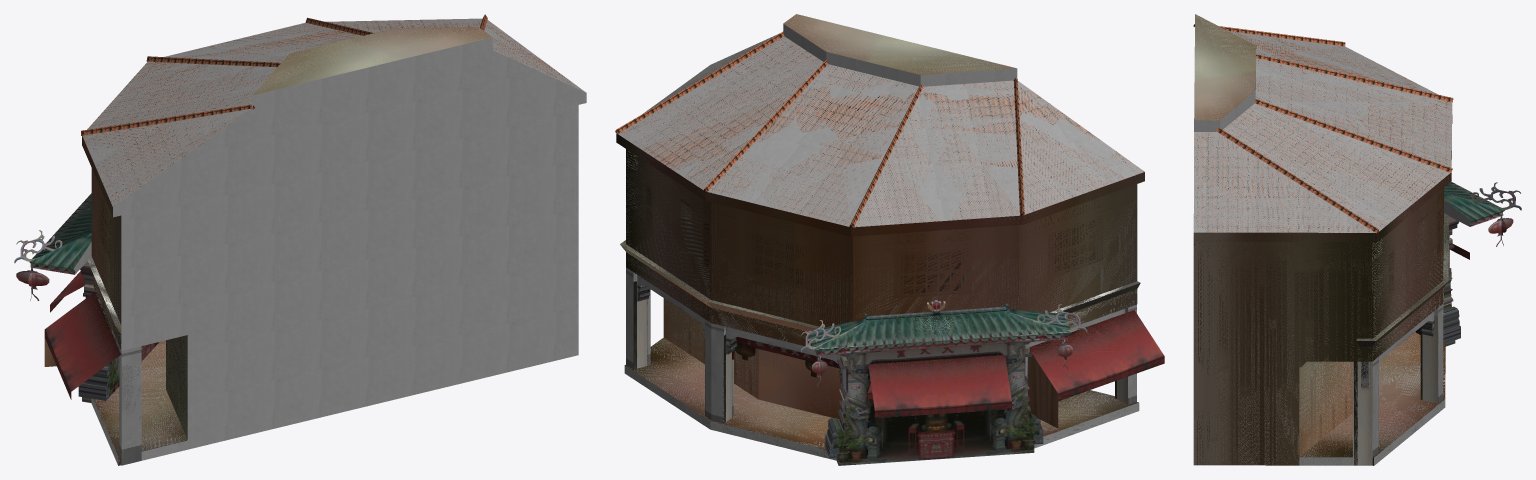
Rendered from smallstreethouse.fbx.
3 views of the same model, side by side, from view 1: azimuth 30°, elevation 25°; view 2: azimuth 150°, elevation 25°; view 3: azimuth 270°, elevation 25° (orthographic). The views are drawn at different scales.
Parts seen in each view (by area): view 1: Group2, Group_27_1, Group3, Group_21_1, box2, box1; view 2: Group2, Group3, Group_27_1, Group10, Group_20_2, Group_20_1, box3, Group_21_1, box, box1, box2; view 3: Group2, Group_20_2, Group3, box, box3, box1, box2, Group4.
Boxes of the visible parts, x1=… form: Group2: x1=82, y1=18, x2=586, y2=465; Group_27_1: x1=44, y1=292, x2=120, y2=399; Group3: x1=29, y1=193, x2=158, y2=402; Group_21_1: x1=92, y1=284, x2=141, y2=465; box2: x1=81, y1=104, x2=255, y2=135; box1: x1=146, y1=56, x2=280, y2=67; Group2: x1=616, y1=14, x2=1144, y2=460; Group3: x1=807, y1=300, x2=1071, y2=465; Group_27_1: x1=1028, y1=310, x2=1164, y2=428; Group10: x1=868, y1=355, x2=1011, y2=418; Group_20_2: x1=626, y1=267, x2=711, y2=419; Group_20_1: x1=711, y1=323, x2=846, y2=424; box3: x1=615, y1=31, x2=784, y2=133; Group_21_1: x1=1025, y1=304, x2=1136, y2=404; box: x1=703, y1=60, x2=827, y2=191; box1: x1=849, y1=84, x2=923, y2=227; box2: x1=1013, y1=77, x2=1024, y2=215; Group2: x1=1193, y1=14, x2=1452, y2=465; Group_20_2: x1=1372, y1=304, x2=1443, y2=456; Group3: x1=1415, y1=181, x2=1504, y2=346; box: x1=1254, y1=99, x2=1452, y2=172; box3: x1=1215, y1=128, x2=1378, y2=233; box1: x1=1256, y1=54, x2=1453, y2=102; box2: x1=1193, y1=24, x2=1345, y2=46; Group4: x1=1471, y1=182, x2=1521, y2=210.
Bounding box in the file's own units: 772 × 493 × 478.
